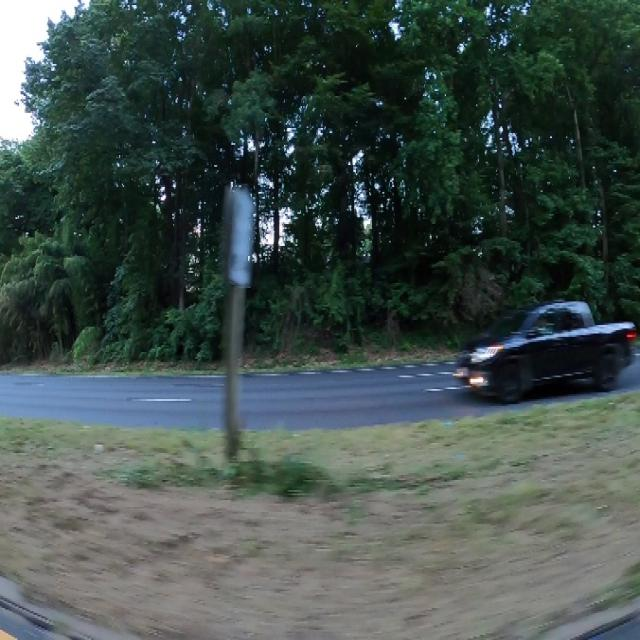cars: (463, 300, 640, 405)
